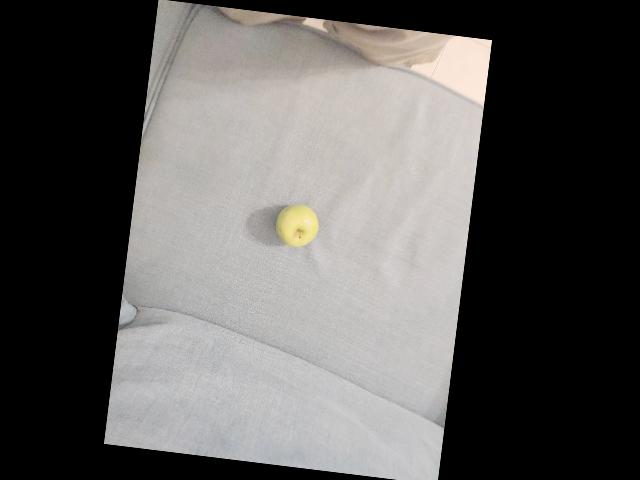apple: (272, 185, 331, 256)
